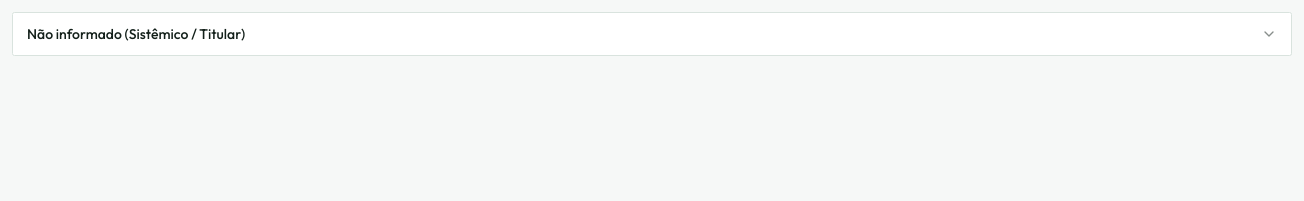
PessoaSelect › estado catálogo vazio se não encontrar ninguém
Click the button with test id "pessoa-select-trigger": point(136, 34) [12,12,1292,56]
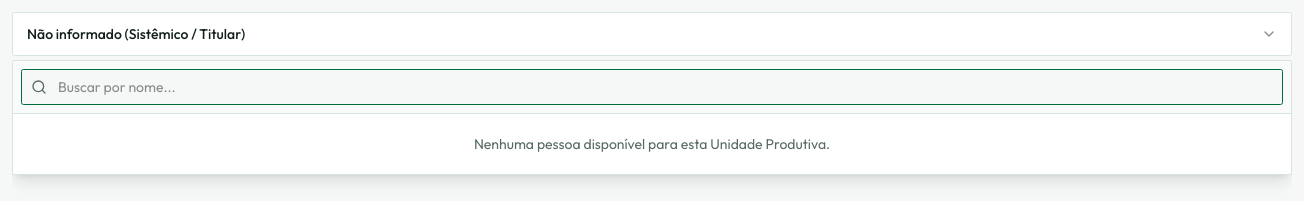
Check: the text "Nenhuma pessoa disponível para esta Unidade Produtiva." is shown, box [474,135,830,153]
